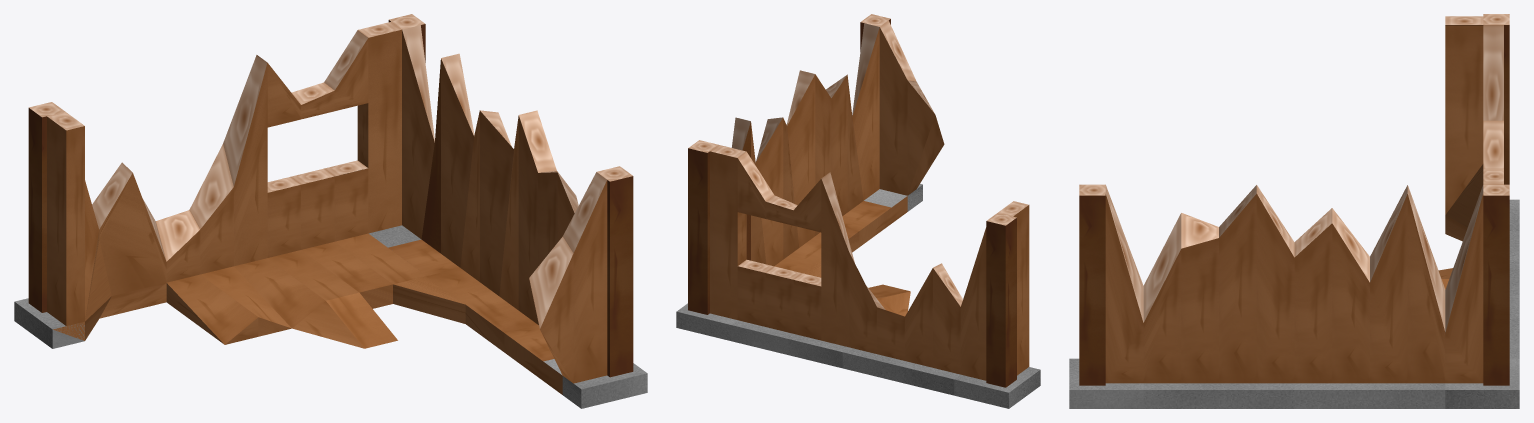
The model's file is House_1_Destroyed_2.glb.
3 views of the same model, side by side, from view 1: azimuth 30°, elevation 25°; view 2: azimuth 150°, elevation 25°; view 3: azimuth 270°, elevation 25° (orthographic). The views are drawn at different scales.
Parts seen in each view (by area): view 1: Cube; view 2: Cube; view 3: Cube.
Part boxes in pixels (<box>): Cube: <box>14,14,647,408</box>; Cube: <box>676,14,1040,408</box>; Cube: <box>1069,14,1519,408</box>.
Bounding box in the file's own units: 6.44 × 3.3 × 6.44.
1 material, 1 textured.
